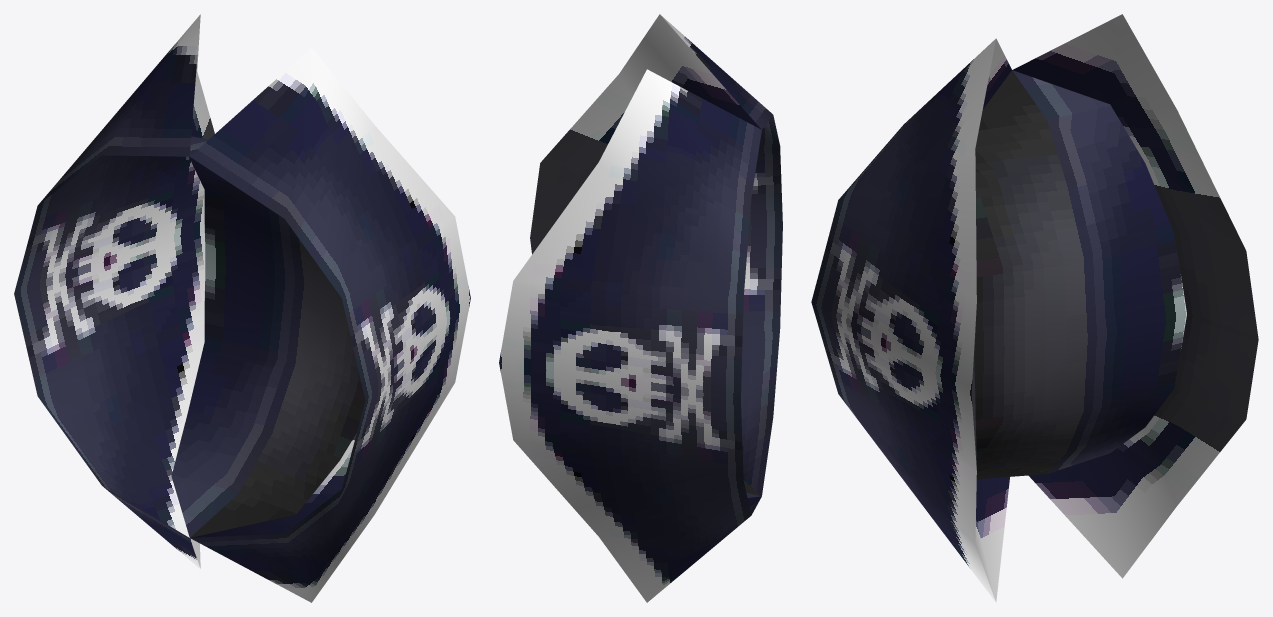
The model's file is cap_hat_pirates.dae.
3 views of the same model, side by side, from view 1: azimuth 30°, elevation 25°; view 2: azimuth 150°, elevation 25°; view 3: azimuth 270°, elevation 25° (orthographic). The views are drawn at different scales.
Visible parts, largest first — view 1: cap_hat_pirates; view 2: cap_hat_pirates; view 3: cap_hat_pirates.
Boxes of the visible parts, <box> form: cap_hat_pirates: <box>14,14,470,602</box>; cap_hat_pirates: <box>499,14,782,602</box>; cap_hat_pirates: <box>811,14,1258,602</box>.
Size of the model in its own units: 19.62 by 30.8 by 22.1.
1 material, 1 textured.
